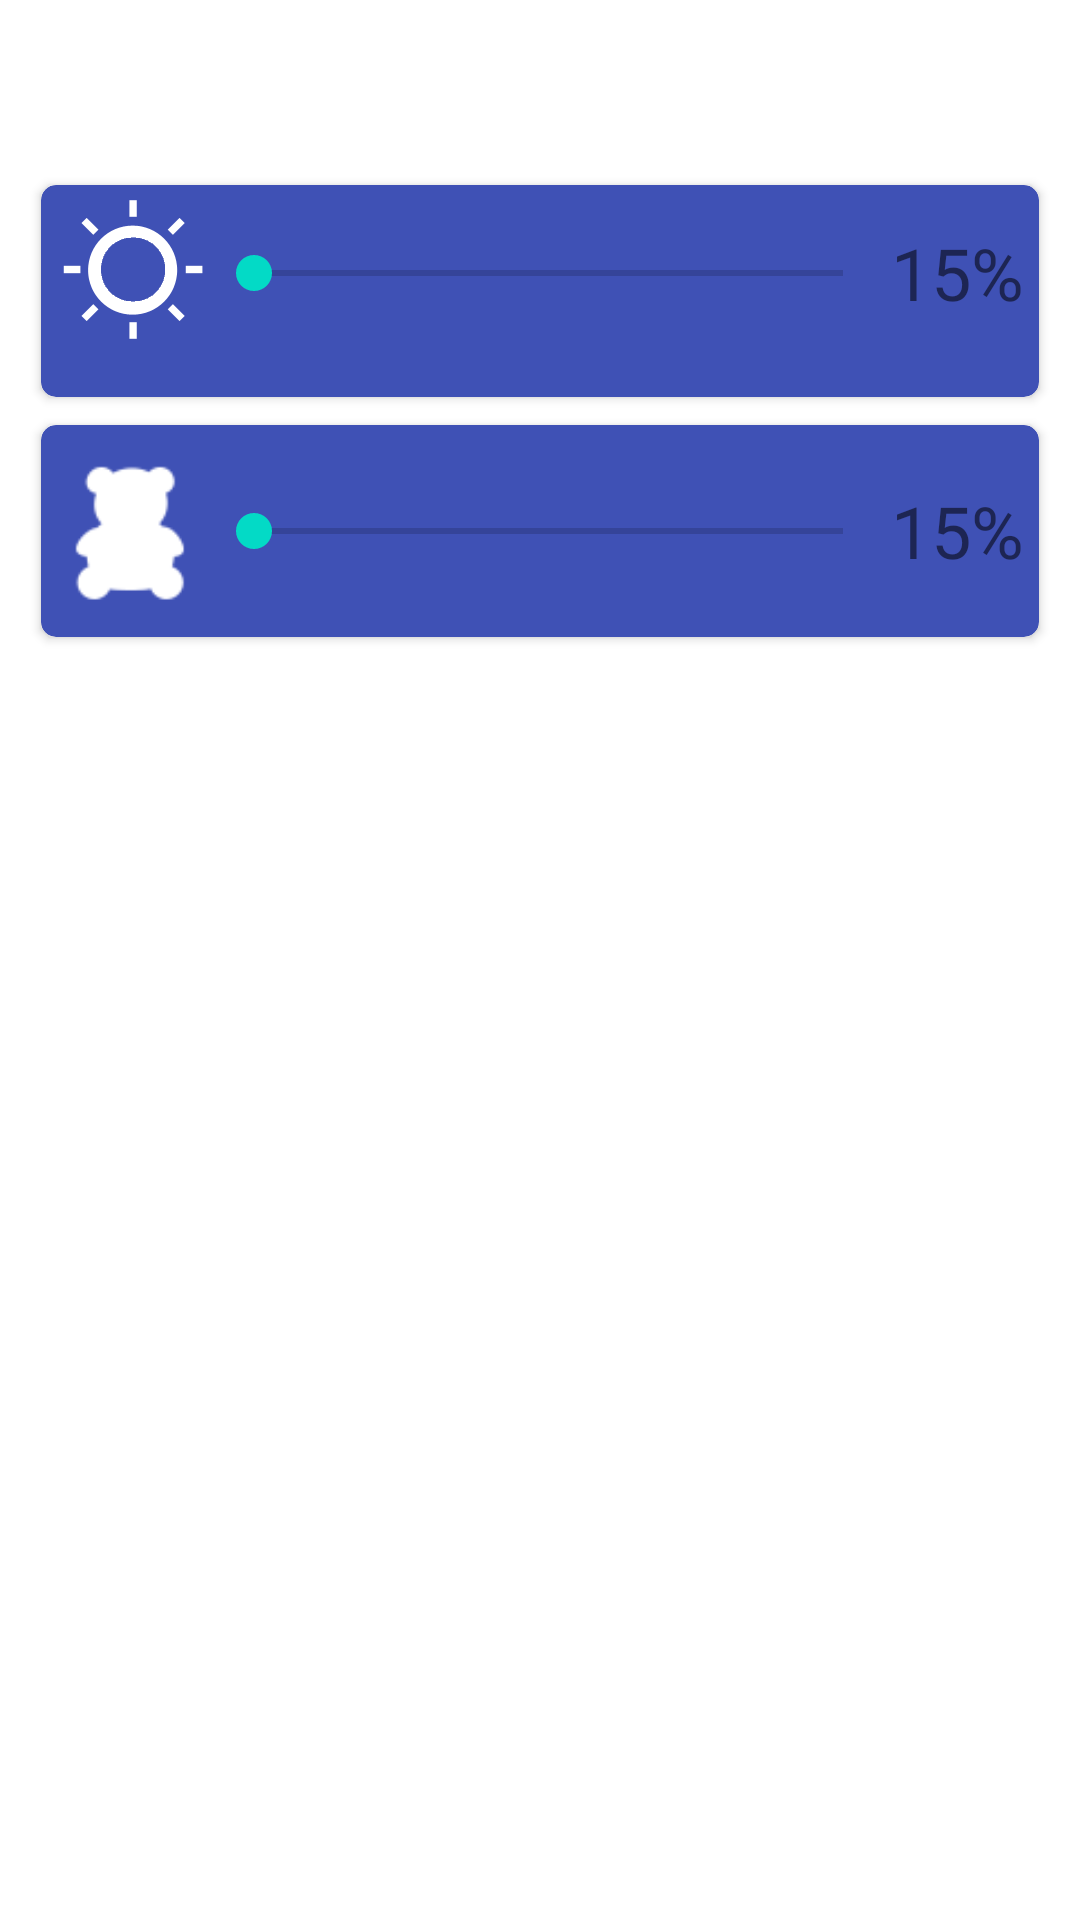

Where icons sit on this 1080 x 1920 app screen, as (x1, y1, x2, y2):
bear: (75, 466, 184, 600)
sun: (63, 200, 203, 339)
